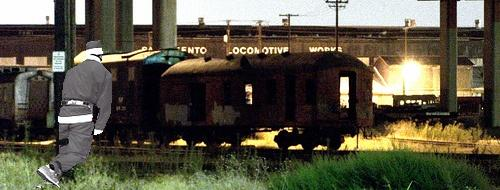tampered: (37, 41, 112, 188)
